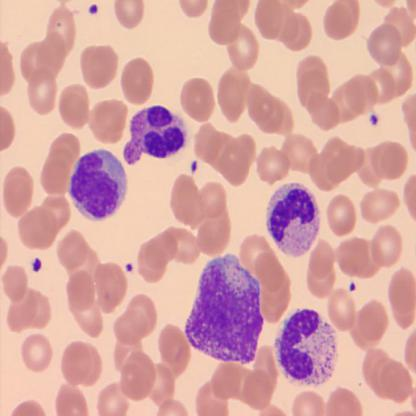Myelocyte: (184, 250, 265, 367)
